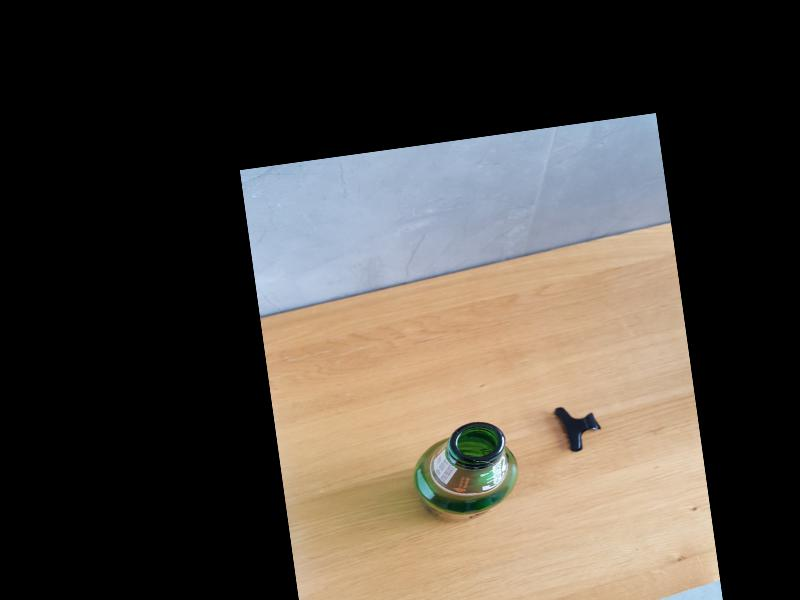Beer: (407, 417, 526, 528)
